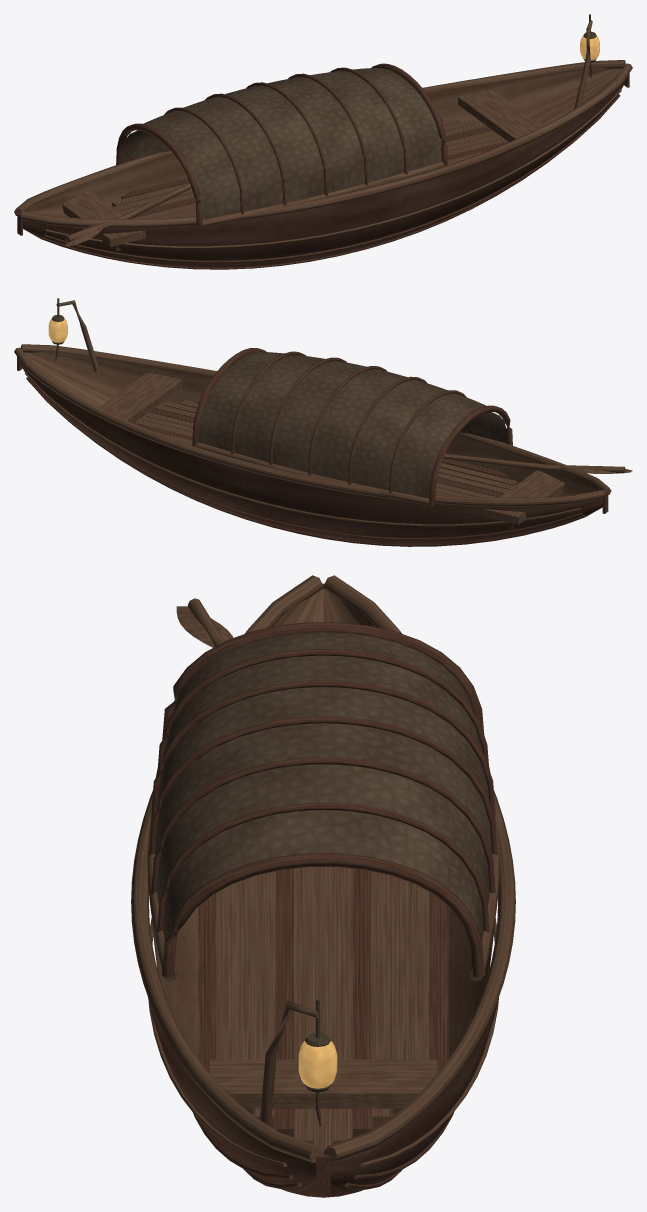
Rendered from wupeng_boat.glb.
3 renders of one model, top to bottom at view 1: azimuth 30°, elevation 25°; view 2: azimuth 150°, elevation 25°; view 3: azimuth 270°, elevation 25°, orthographic. The views are drawn at different scales.
Visible parts, largest first — view 1: wupeng_boat; view 2: wupeng_boat; view 3: wupeng_boat.
Part boxes in pixels (<box>): wupeng_boat: <box>14,14,632,269</box>; wupeng_boat: <box>14,298,632,546</box>; wupeng_boat: <box>131,575,515,1197</box>.
Bounding box in the file's own units: 4.44 × 1.15 × 1.25.
2 materials, 2 textured.
